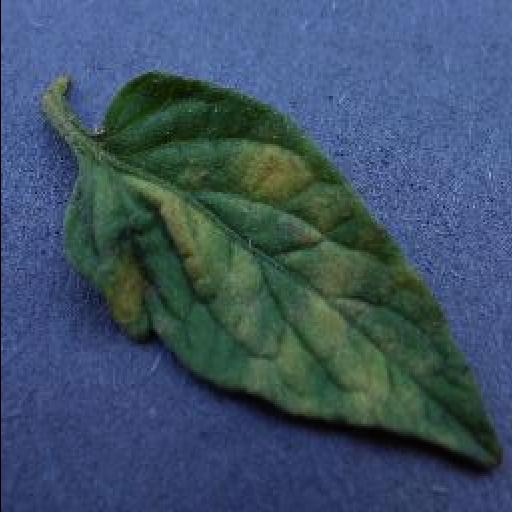disease_tomato: (54, 71, 502, 467)
